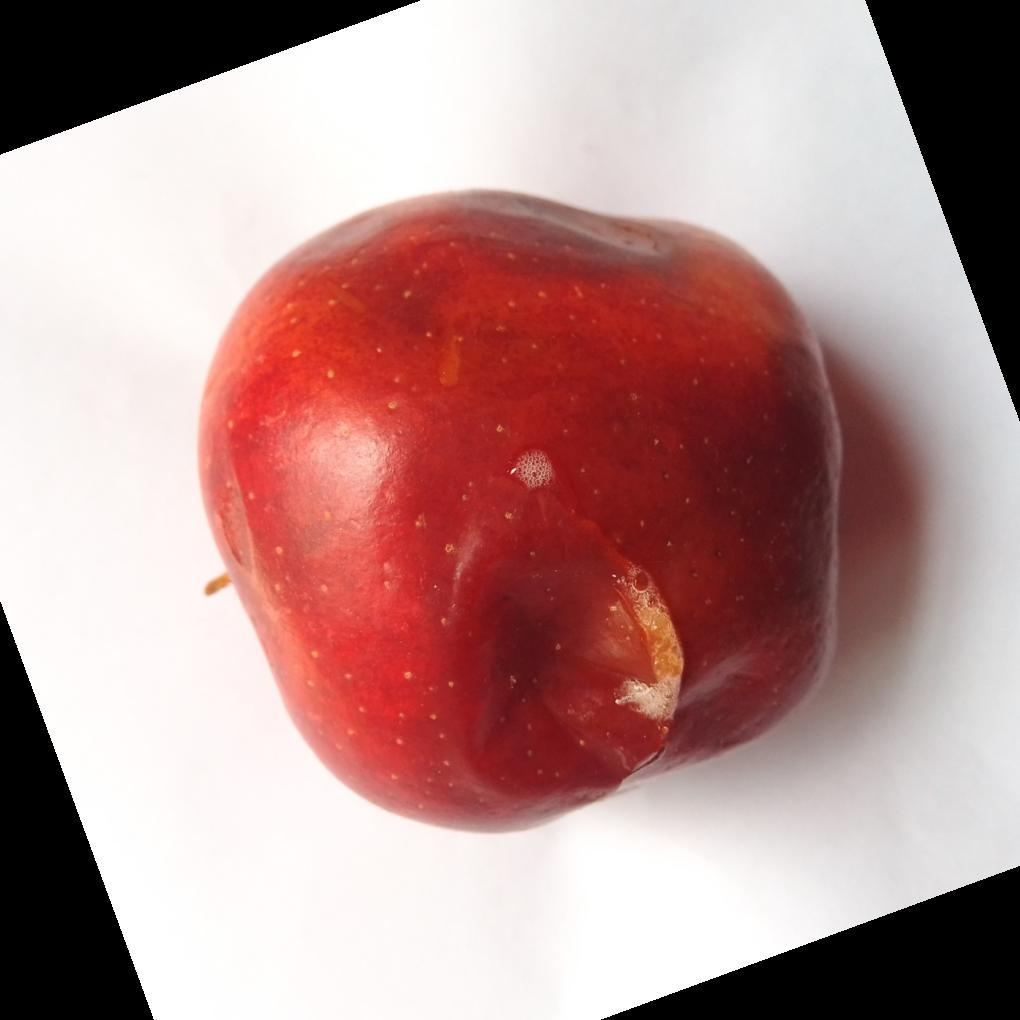FreshOrange: (195, 190, 846, 838)
